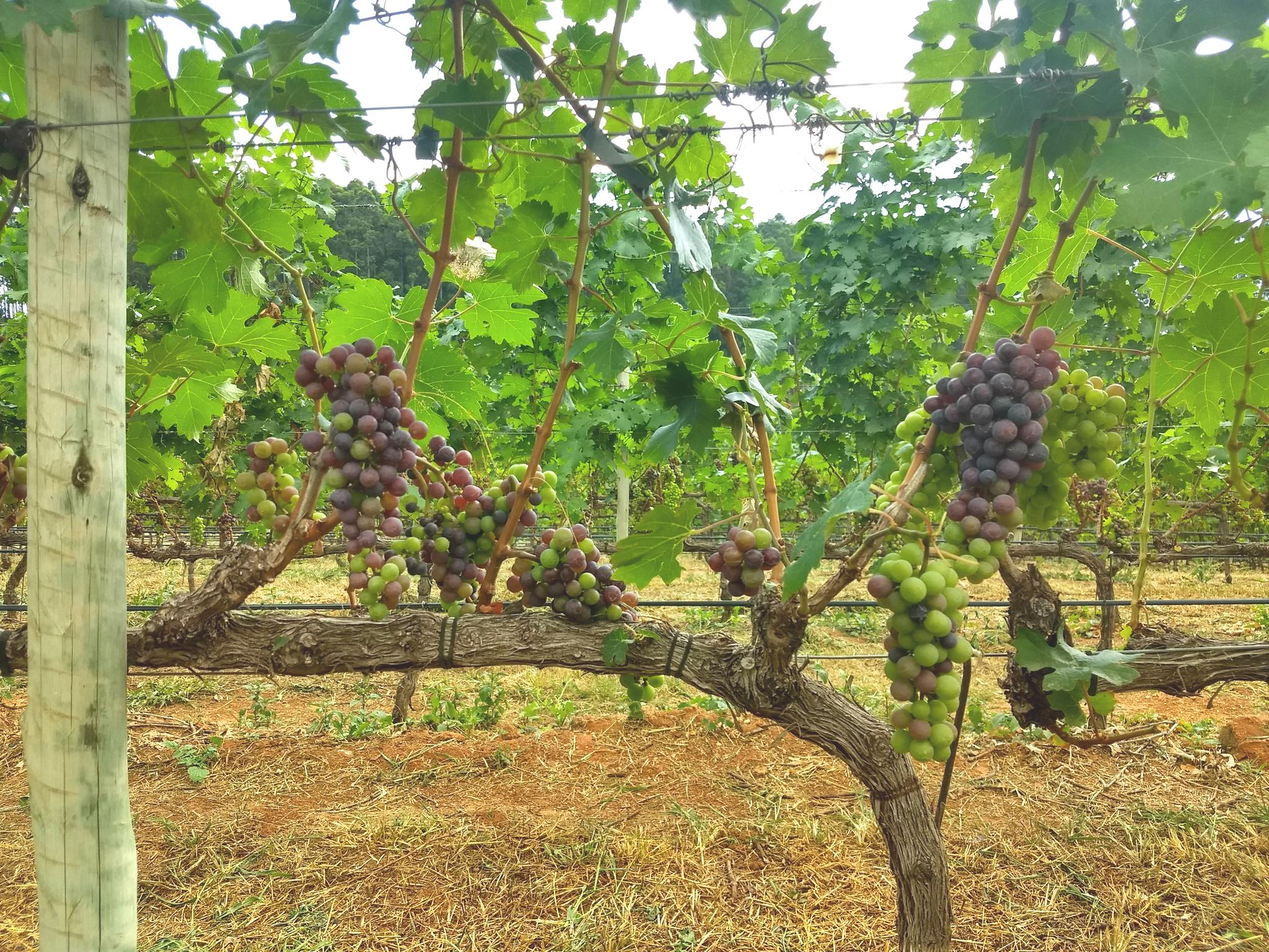Grape Unripe: (863, 541, 978, 771), (432, 443, 545, 602), (1032, 370, 1133, 492), (505, 526, 632, 620), (232, 421, 316, 537), (706, 521, 776, 598)
